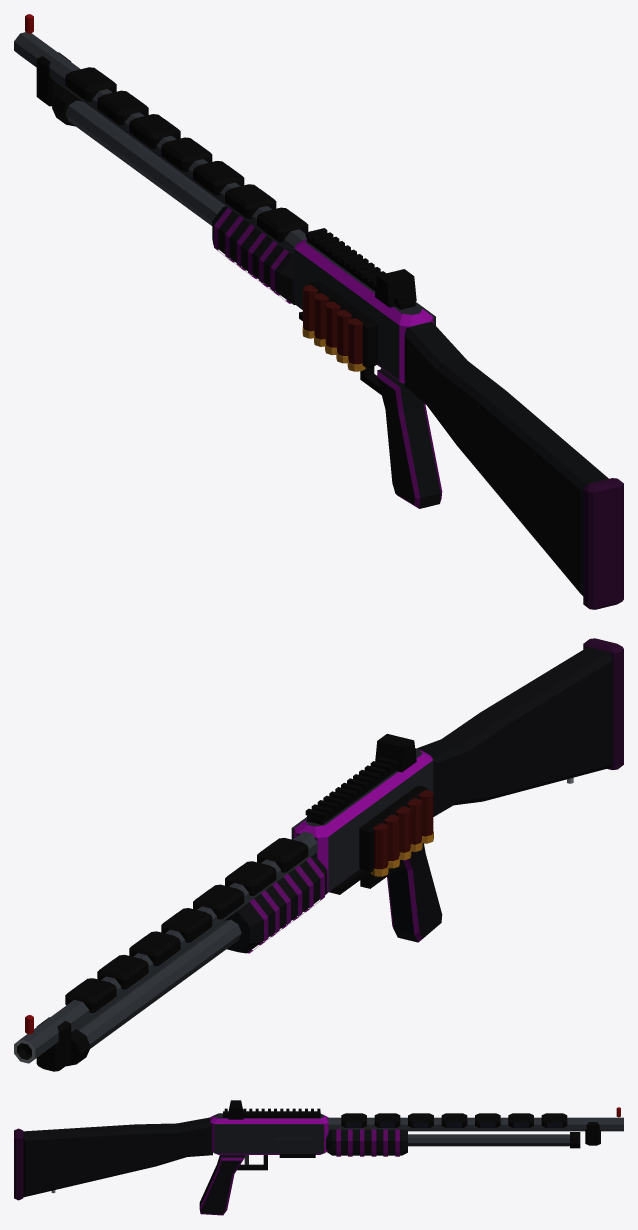
Rendered from SM_Wep_PumpShotgun.glb.
3 views of the same model, one above another, from view 1: azimuth 30°, elevation 25°; view 2: azimuth 150°, elevation 25°; view 3: azimuth 270°, elevation 25° (orthographic). The views are drawn at different scales.
Visible parts, largest first — view 1: SM_Wep_PumpShotgun, SM_Wep_PumpShotgun_Pump; view 2: SM_Wep_PumpShotgun, SM_Wep_PumpShotgun_Pump; view 3: SM_Wep_PumpShotgun, SM_Wep_PumpShotgun_Pump.
Part boxes in pixels (box(x1,y1,x2,y2)): SM_Wep_PumpShotgun: box(14, 14, 623, 609); SM_Wep_PumpShotgun_Pump: box(212, 206, 295, 304); SM_Wep_PumpShotgun: box(14, 638, 623, 1071); SM_Wep_PumpShotgun_Pump: box(225, 855, 327, 953); SM_Wep_PumpShotgun: box(14, 1100, 623, 1215); SM_Wep_PumpShotgun_Pump: box(326, 1129, 407, 1156).
Size of the model in its own units: 0.0789 by 0.234 by 1.19.
Materials: 1 (1 with a texture image).
